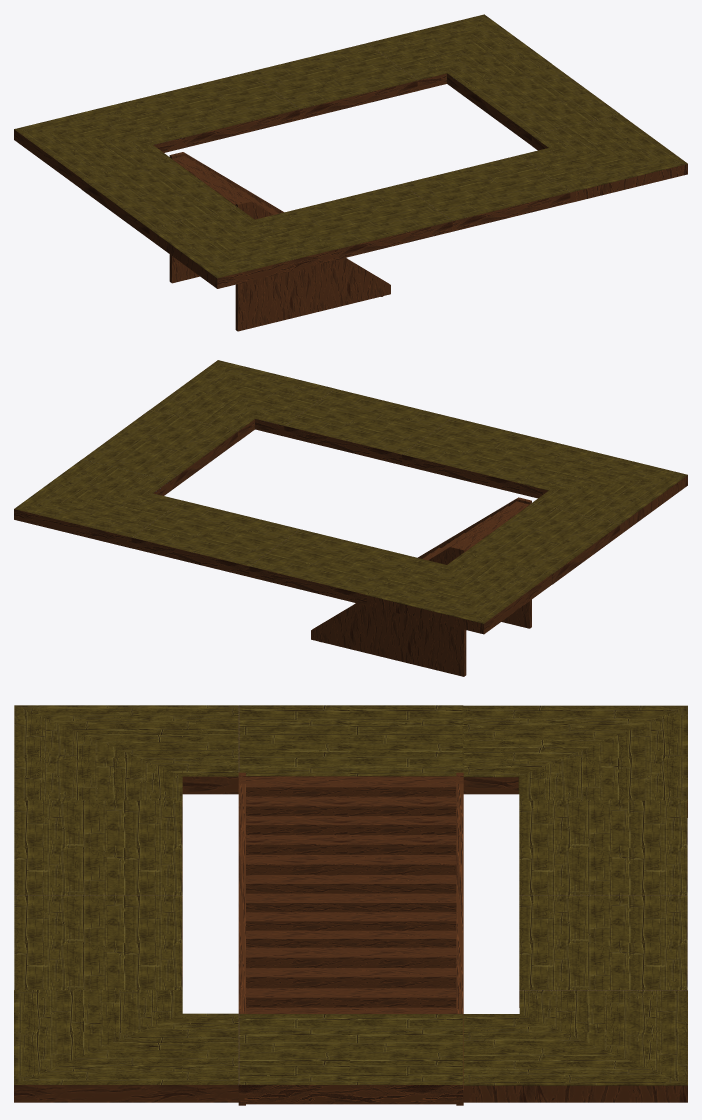
Rendered from FixedSecondFloor - Copy.fbx.
3 renders of one model, top to bottom at view 1: azimuth 30°, elevation 25°; view 2: azimuth 150°, elevation 25°; view 3: azimuth 270°, elevation 25°, orthographic. The views are drawn at different scales.
Visible parts, largest first — view 1: pCube2, pCube4, pCube6, pCube5, pCube1, pCube7, pCube3, pCube8, pCube100, pCube99, pCube9, pCube96 (+1 smaller); view 2: pCube6, pCube5, pCube2, pCube4, pCube7, pCube1, pCube3, pCube8, pCube101, pCube99, pCube9, pCube96 (+1 smaller); view 3: pCube96, pCube4, pCube5, pCube6, pCube2, pCube9, pCube7, pCube1, pCube8, pCube99, pCube3, pCube101 (+1 smaller).
Part boxes in pixels (x1,y1,x2,y2): pCube2: (149,207,334,288); pCube4: (520,114,687,202); pCube6: (14,100,182,188); pCube5: (367,14,551,95); pCube1: (284,184,452,260); pCube7: (249,43,417,119); pCube3: (402,155,570,231); pCube8: (132,72,299,148); pCube100: (235,200,390,331); pCube99: (81,157,237,238); pCube9: (464,64,619,145); pCube96: (172,156,383,296); pCube6: (366,552,551,634); pCube5: (14,459,181,548); pCube2: (519,446,687,534); pCube4: (150,360,334,441); pCube7: (131,500,299,576); pCube1: (402,417,569,493); pCube3: (284,389,452,465); pCube8: (249,529,417,605); pCube101: (311,545,466,676); pCube99: (464,503,620,584); pCube9: (82,409,237,491); pCube96: (319,501,529,641); pCube96: (246,776,456,1104); pCube4: (14,990,238,1102); pCube5: (463,990,687,1102); pCube6: (463,705,687,817); pCube2: (14,705,238,800); pCube9: (238,1014,463,1102); pCube7: (519,895,687,1007); pCube1: (14,800,182,895); pCube8: (519,800,687,895); pCube99: (238,705,463,776); pCube3: (14,895,182,990); pCube101: (456,772,463,1105).
Bounding box in the file's own units: 65.62 × 17.15 × 49.21.
Materials: 2 (2 with a texture image).
